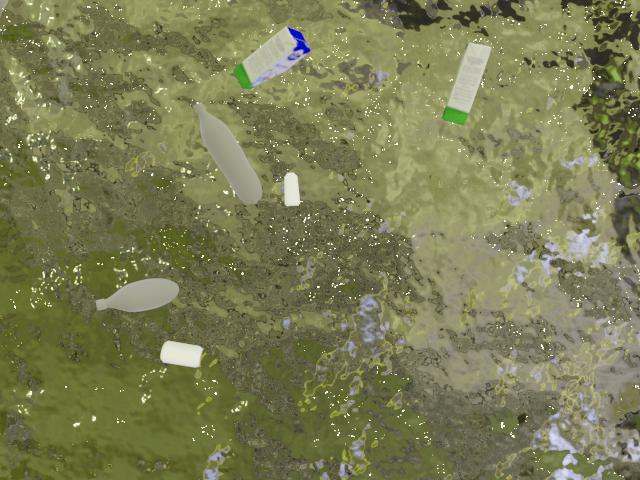Metal: (158, 330, 208, 382), (279, 166, 310, 216)
Plastic: (183, 99, 273, 213), (92, 274, 185, 323)
Trash: (236, 27, 310, 95), (442, 39, 494, 131)
